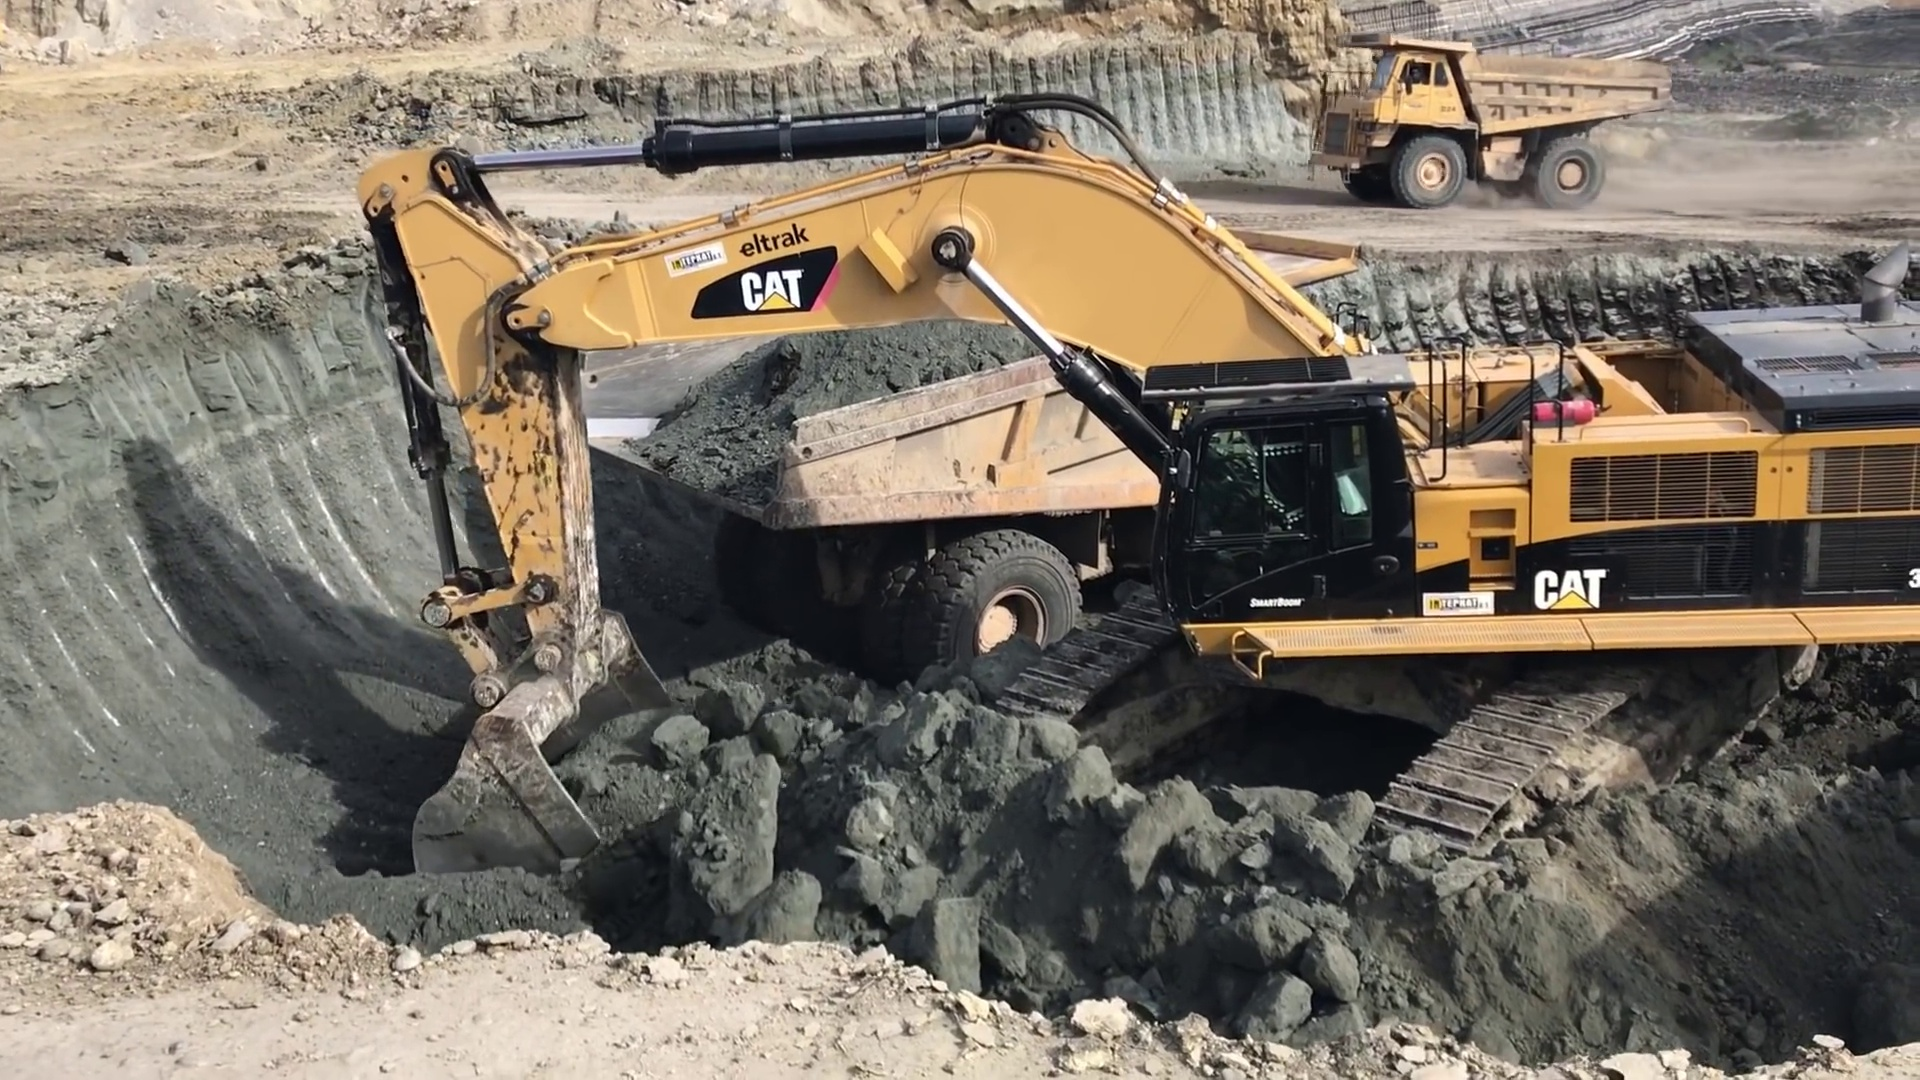dumper: (570, 220, 1379, 688), (1311, 22, 1669, 218)
excavator: (357, 88, 1915, 924)
